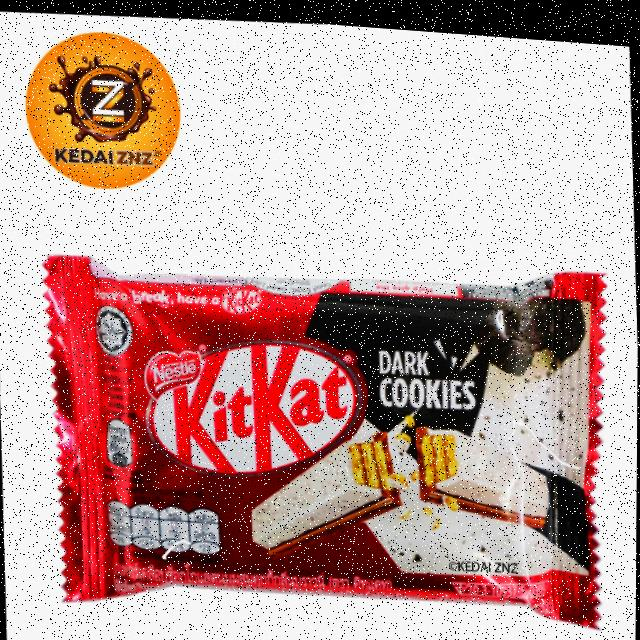kitkat: (43, 234, 604, 632)
